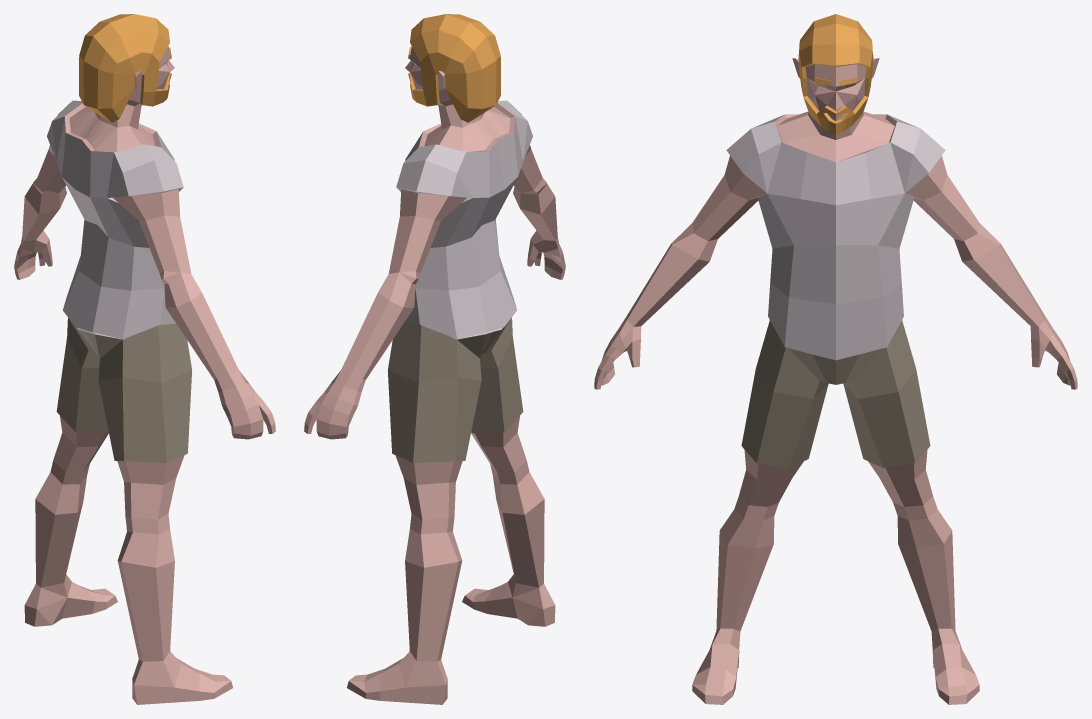
The model's file is barbar.fbx.
3 renders of one model, left to right at view 1: azimuth 30°, elevation 25°; view 2: azimuth 150°, elevation 25°; view 3: azimuth 270°, elevation 25°, orthographic. The views are drawn at different scales.
Parts seen in each view (by area): view 1: Barbar; view 2: Barbar; view 3: Barbar.
Boxes of the visible parts, <box> form: Barbar: <box>14,14,275,704</box>; Barbar: <box>304,14,565,704</box>; Barbar: <box>594,14,1077,704</box>.
Bounding box in the file's own units: 28.8 × 173 × 114.
